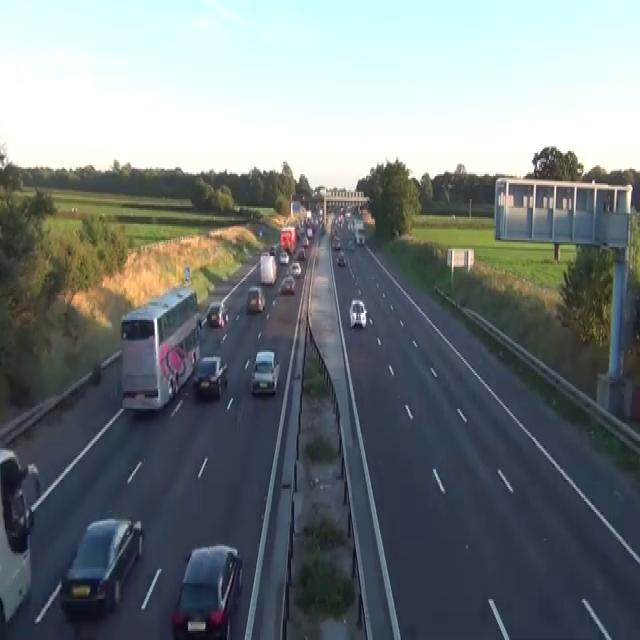Car: (59, 516, 143, 615), (0, 446, 40, 626), (171, 544, 243, 638), (193, 354, 228, 398), (250, 348, 280, 394), (206, 301, 228, 327), (246, 284, 265, 313), (349, 299, 367, 329), (278, 276, 295, 294), (289, 262, 301, 278), (336, 250, 345, 266), (198, 313, 207, 329), (279, 249, 289, 263), (331, 235, 341, 249), (346, 238, 354, 251), (297, 247, 305, 260), (354, 219, 364, 229), (347, 219, 354, 231), (306, 226, 312, 238), (269, 244, 276, 254), (302, 237, 308, 246), (198, 316, 202, 329), (258, 230, 262, 237)
Truck: (120, 284, 200, 412), (260, 250, 277, 284), (279, 226, 296, 252)
